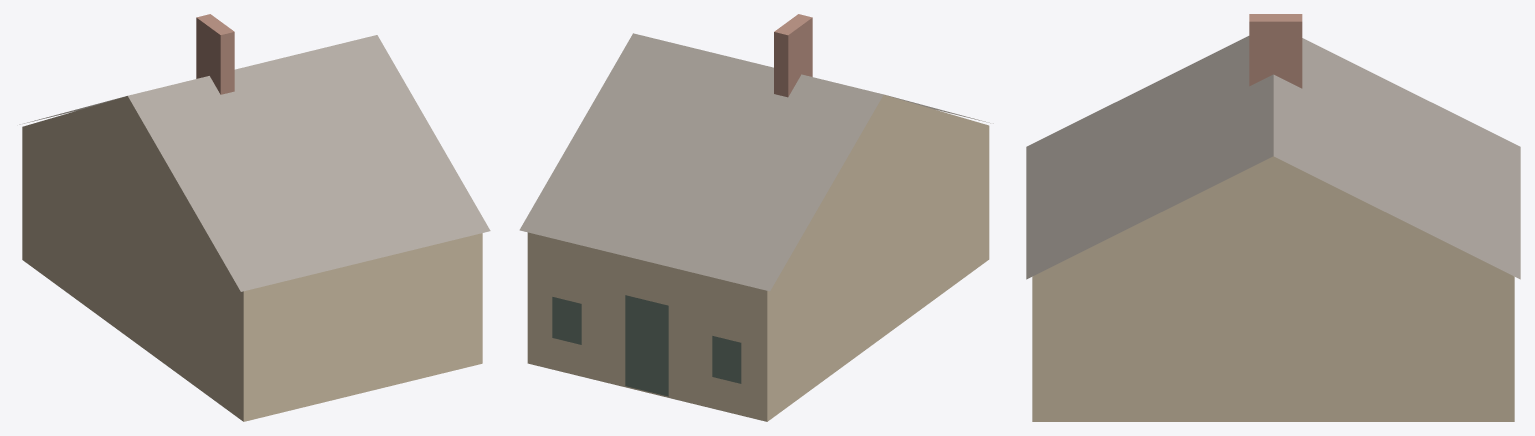
Rendered from recon_1835_south_c2_007__recommended_1835.glb.
3 views of the same model, side by side, from view 1: azimuth 30°, elevation 25°; view 2: azimuth 150°, elevation 25°; view 3: azimuth 270°, elevation 25° (orthographic). The views are drawn at different scales.
Parts seen in each view (by area): view 1: recon_1835_south_c2_007__recommended_1835; view 2: recon_1835_south_c2_007__recommended_1835; view 3: recon_1835_south_c2_007__recommended_1835.
Part boxes in pixels (x1=…): recon_1835_south_c2_007__recommended_1835: x1=19, y1=14, x2=490, y2=421; recon_1835_south_c2_007__recommended_1835: x1=519, y1=14, x2=993, y2=421; recon_1835_south_c2_007__recommended_1835: x1=1026, y1=14, x2=1520, y2=421.
Bounding box in the file's own units: 6.37 × 7.2 × 10.02.
